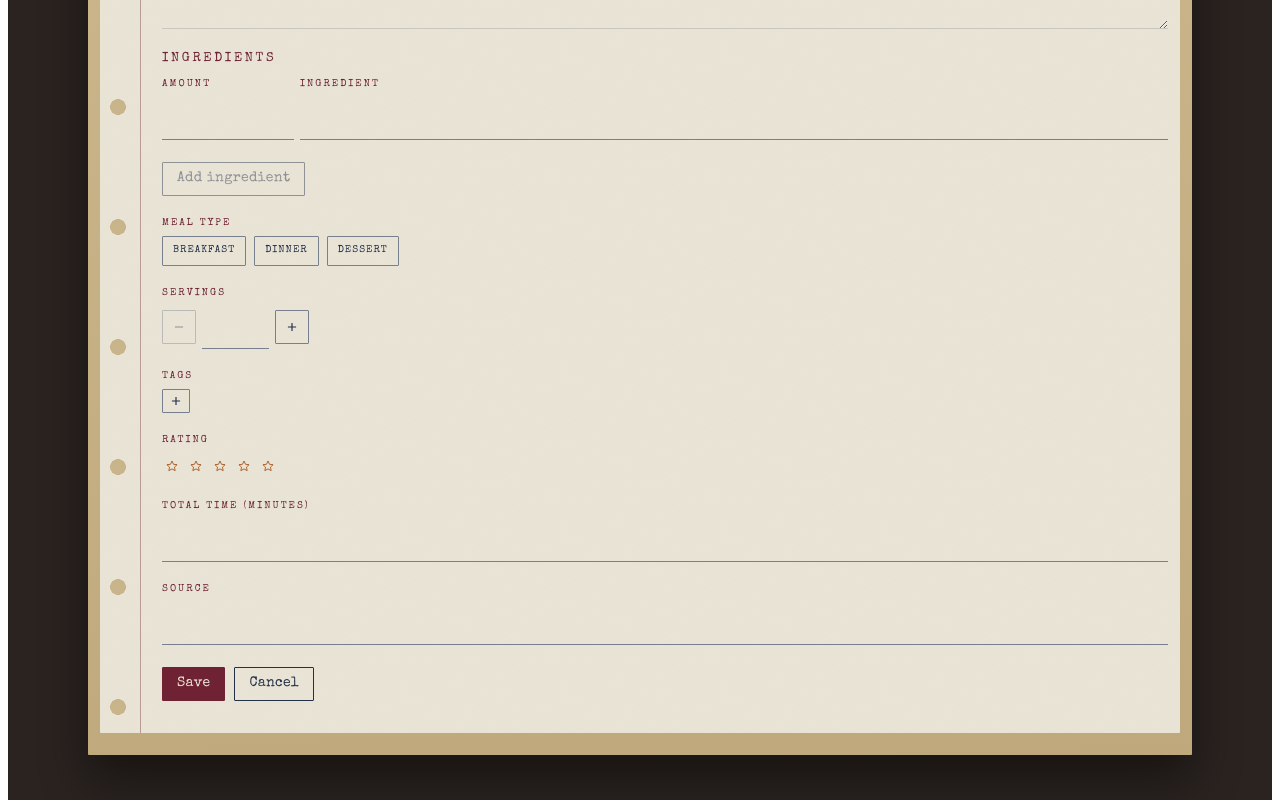
tags and ingredients › offers tags only in the Tags input
(page scrolled)
Click the button with test id "tags-open" at (176, 400), box [162,388,190,412]
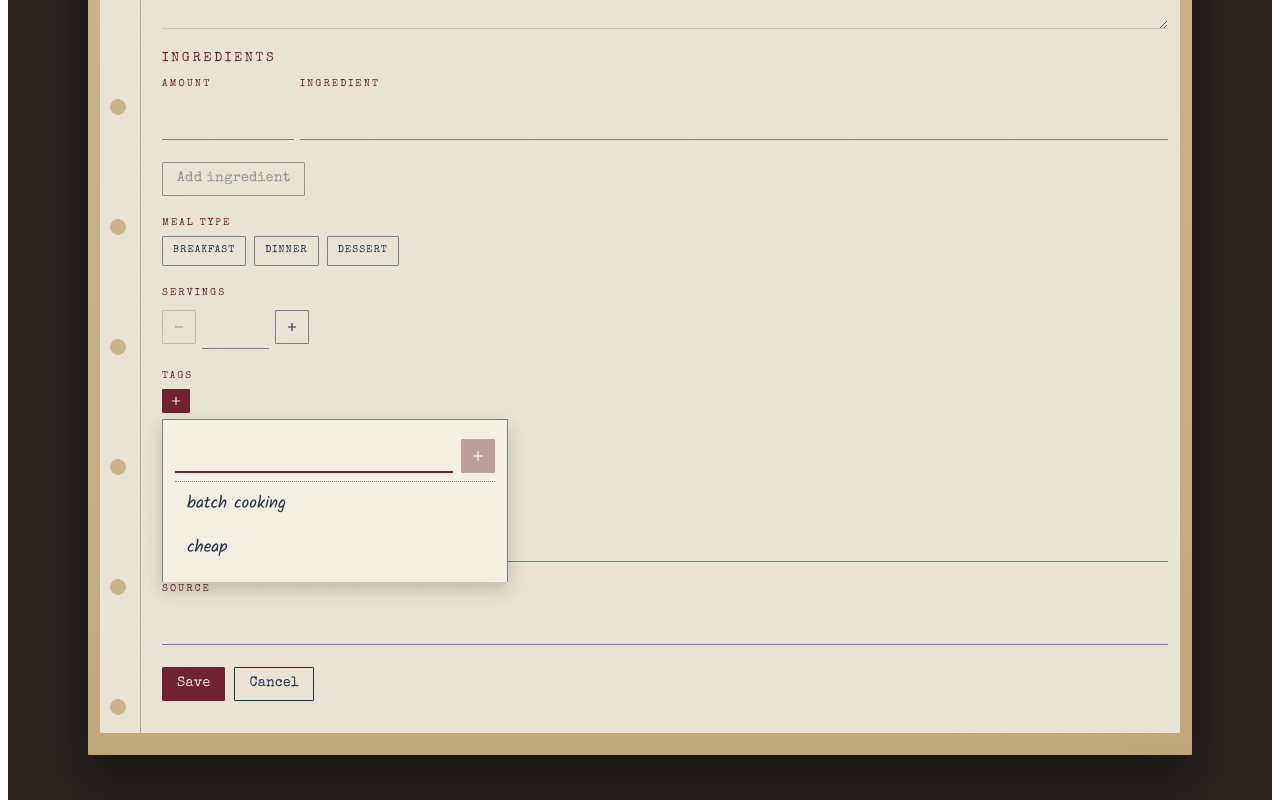
Type "bat" into the dropdown with test id "tags-input" at (314, 451), box [175,430,453,472]
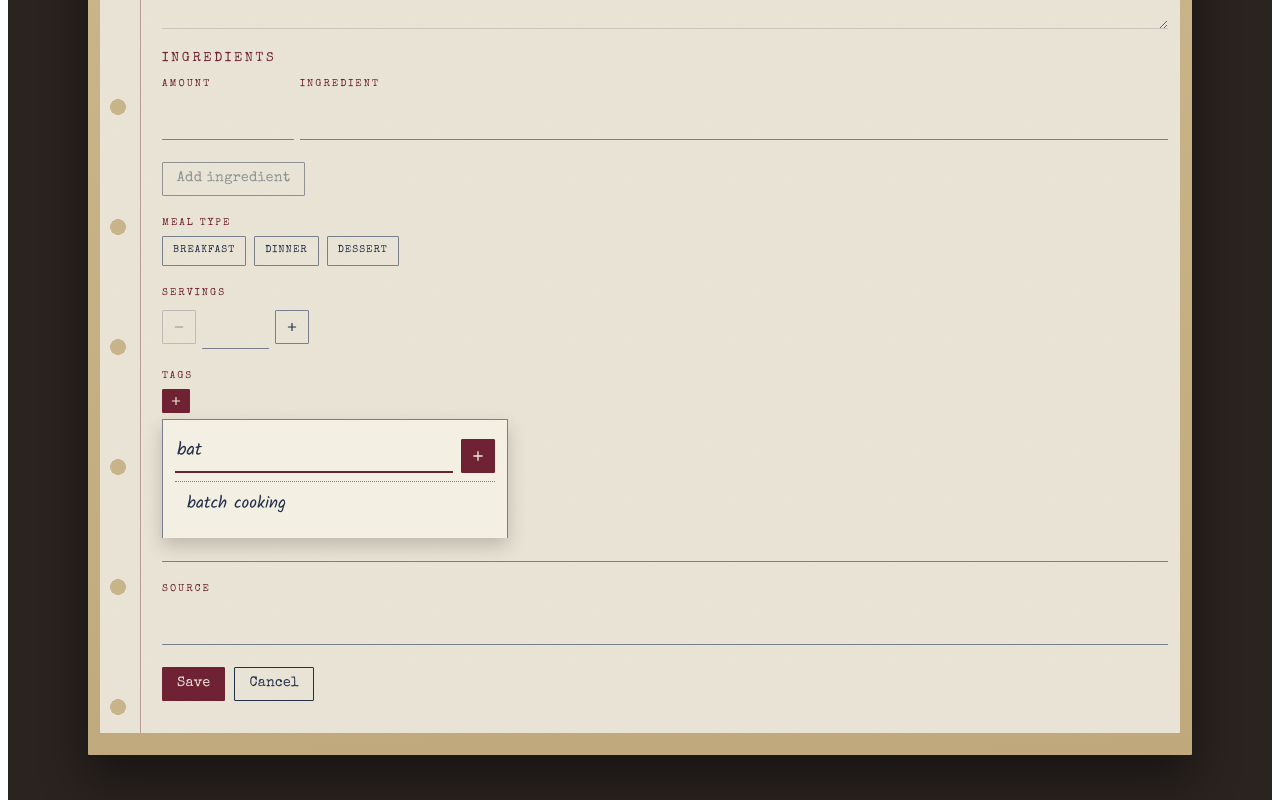
Check: the elements with test id "tags-option" read "batch cooking", in this order, box [175,482,495,526]
